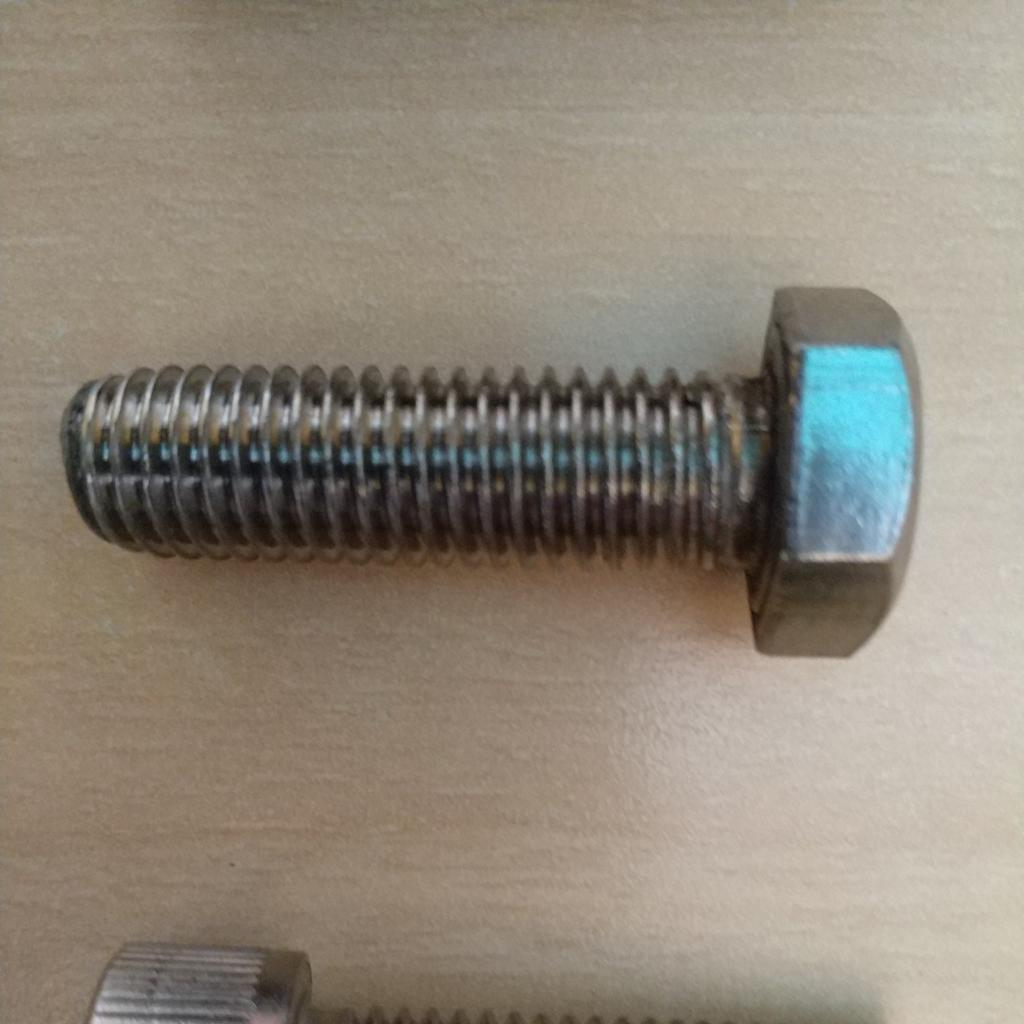screwtype2silver: (39, 271, 930, 680)
